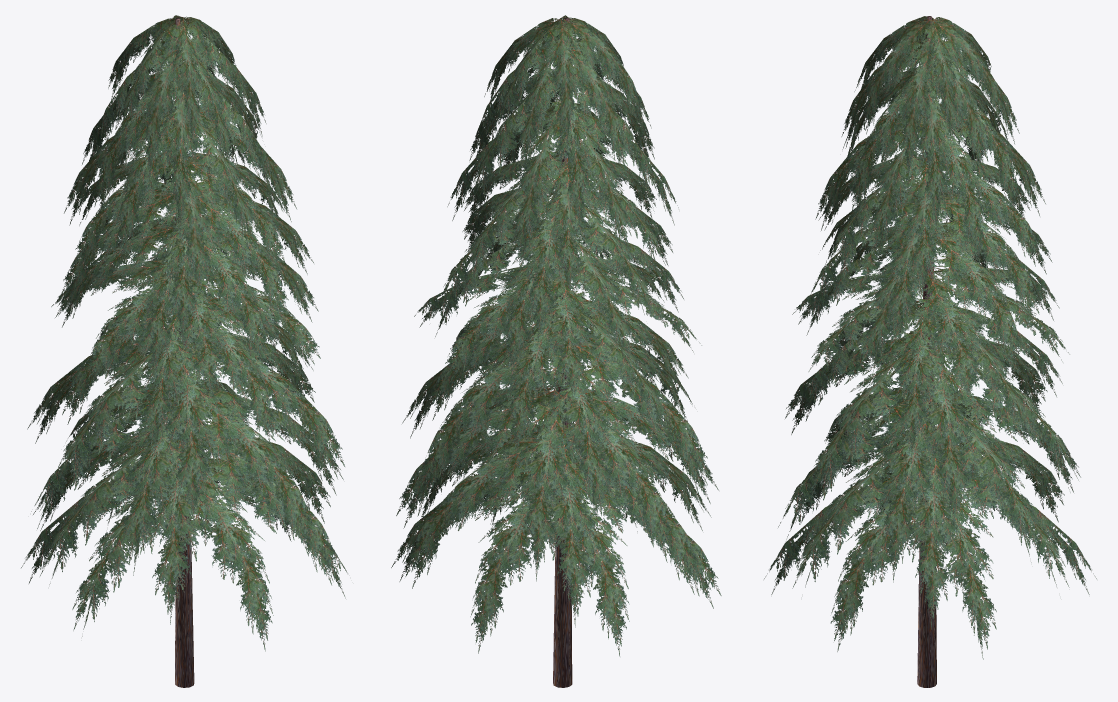
The model's file is conifer1.fbx.
The picture shows the model from 3 angles, left to right: view 1: azimuth 30°, elevation 25°; view 2: azimuth 150°, elevation 25°; view 3: azimuth 270°, elevation 25°; orthographic projection.
Visible parts, largest first — view 1: U3DMesh; view 2: U3DMesh; view 3: U3DMesh.
Boxes of the visible parts, x1,y1,x2,y2 form: U3DMesh: [21, 15, 347, 687]; U3DMesh: [391, 15, 721, 687]; U3DMesh: [764, 16, 1096, 687].
Bounding box in the file's own units: 540 × 1148 × 540.
Materials: 2 (2 with a texture image).
